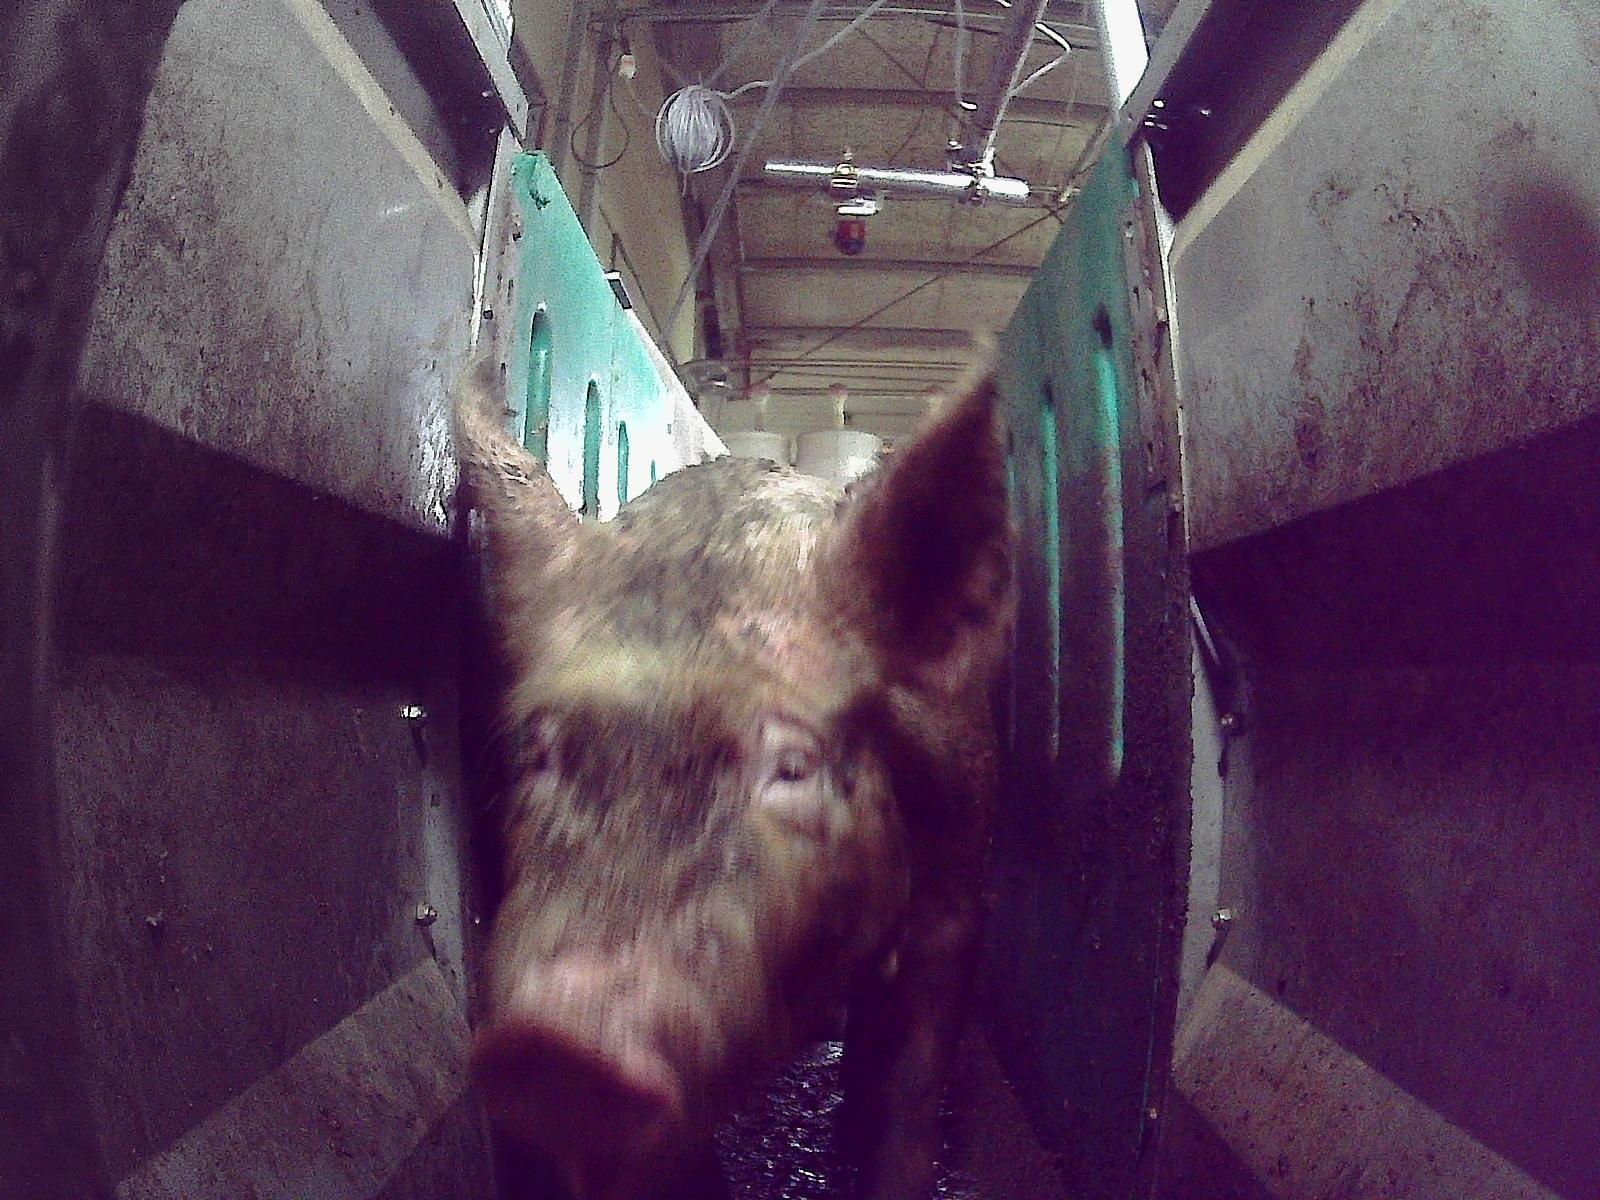Face: (468, 507, 917, 1176)
